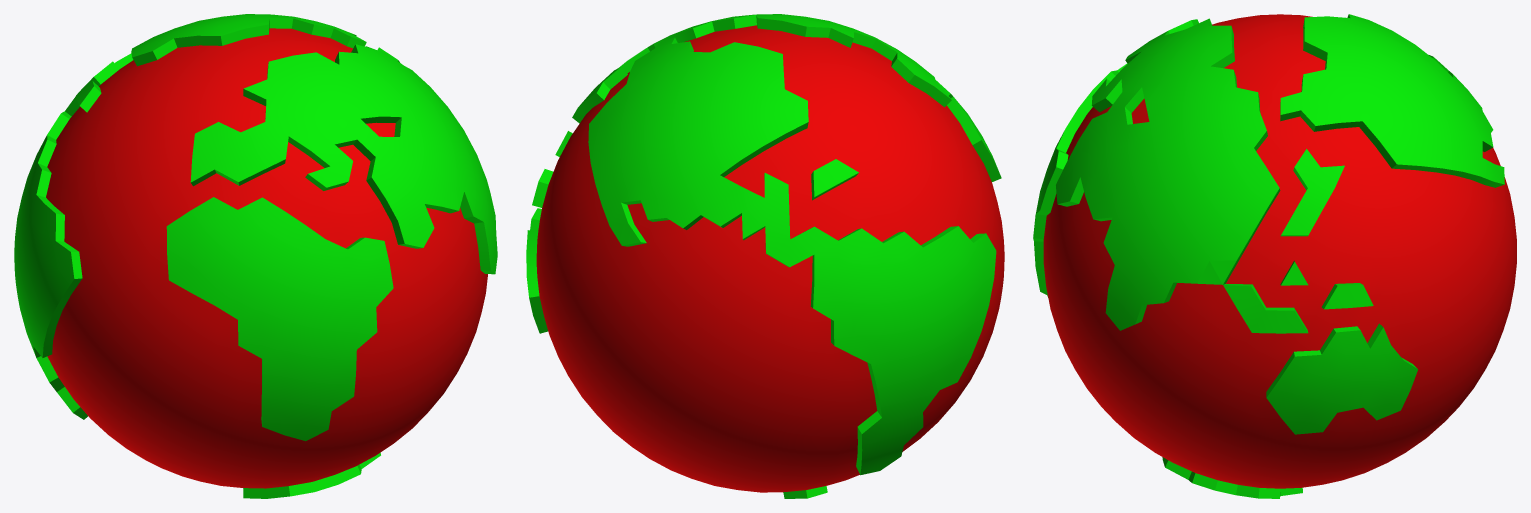
File: Earth2.fbx
The picture shows the model from 3 angles, left to right: view 1: azimuth 30°, elevation 25°; view 2: azimuth 150°, elevation 25°; view 3: azimuth 270°, elevation 25°; orthographic projection. The views are drawn at different scales.
Visible parts, largest first — view 1: Earth; view 2: Earth; view 3: Earth.
Boxes of the visible parts, x1=… form: Earth: x1=14, y1=14, x2=497, y2=498; Earth: x1=526, y1=14, x2=1004, y2=498; Earth: x1=1033, y1=14, x2=1516, y2=498.
Size of the model in its own units: 185 by 184 by 180.
